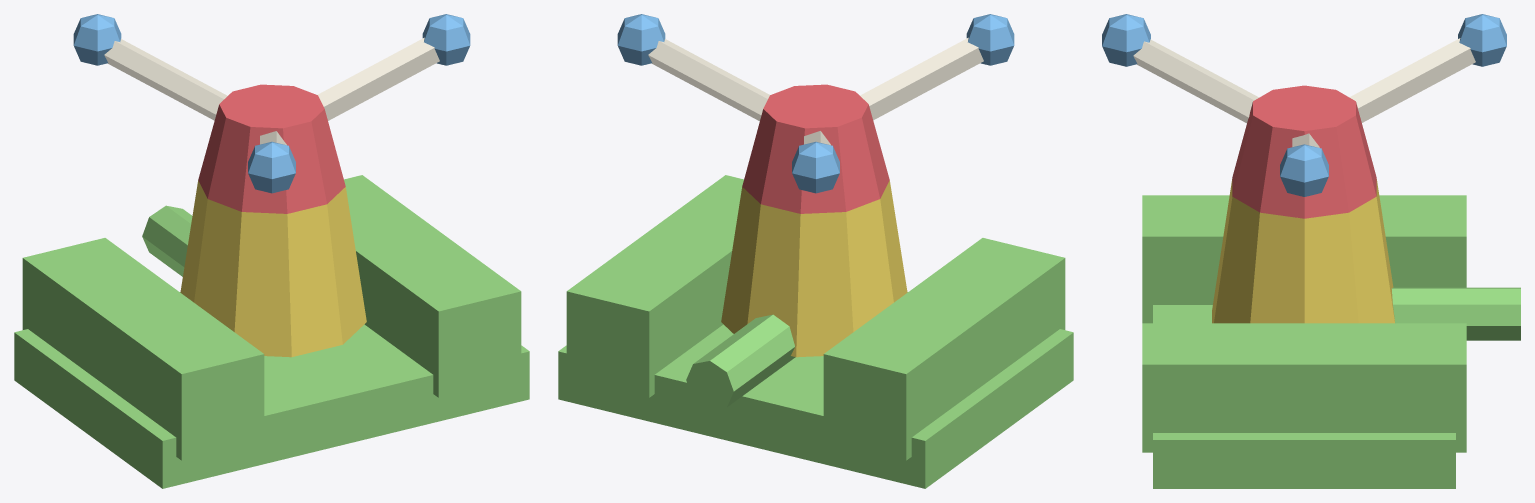
The model's file is lawn-mowing-simulator-kit-lawn-sprinkler-b1997f0e__27410.glb.
3 renders of one model, left to right at view 1: azimuth 30°, elevation 25°; view 2: azimuth 150°, elevation 25°; view 3: azimuth 270°, elevation 25°, orthographic. The views are drawn at different scales.
Parts seen in each view (by area): view 1: lawn-sprinkler, sprinkler-head/red, sprinkler-head/cream, sprinkler-head/blue; view 2: lawn-sprinkler, sprinkler-head/red, sprinkler-head/cream, sprinkler-head/blue; view 3: lawn-sprinkler, sprinkler-head/red, sprinkler-head/cream, sprinkler-head/blue.
Boxes of the visible parts, left/top/right/bottom form: lawn-sprinkler: left=14, top=175, right=529, bottom=488; sprinkler-head/red: left=198, top=84, right=345, bottom=213; sprinkler-head/cream: left=104, top=37, right=439, bottom=145; sprinkler-head/blue: left=73, top=14, right=470, bottom=193; lawn-sprinkler: left=558, top=175, right=1073, bottom=488; sprinkler-head/red: left=742, top=84, right=889, bottom=213; sprinkler-head/cream: left=648, top=37, right=983, bottom=145; sprinkler-head/blue: left=617, top=14, right=1014, bottom=193; lawn-sprinkler: left=1142, top=179, right=1520, bottom=488; sprinkler-head/red: left=1232, top=85, right=1376, bottom=218; sprinkler-head/cream: left=1133, top=38, right=1475, bottom=147; sprinkler-head/blue: left=1102, top=14, right=1506, bottom=196.
Bounding box in the file's own units: 0.416 × 0.346 × 0.3871.
